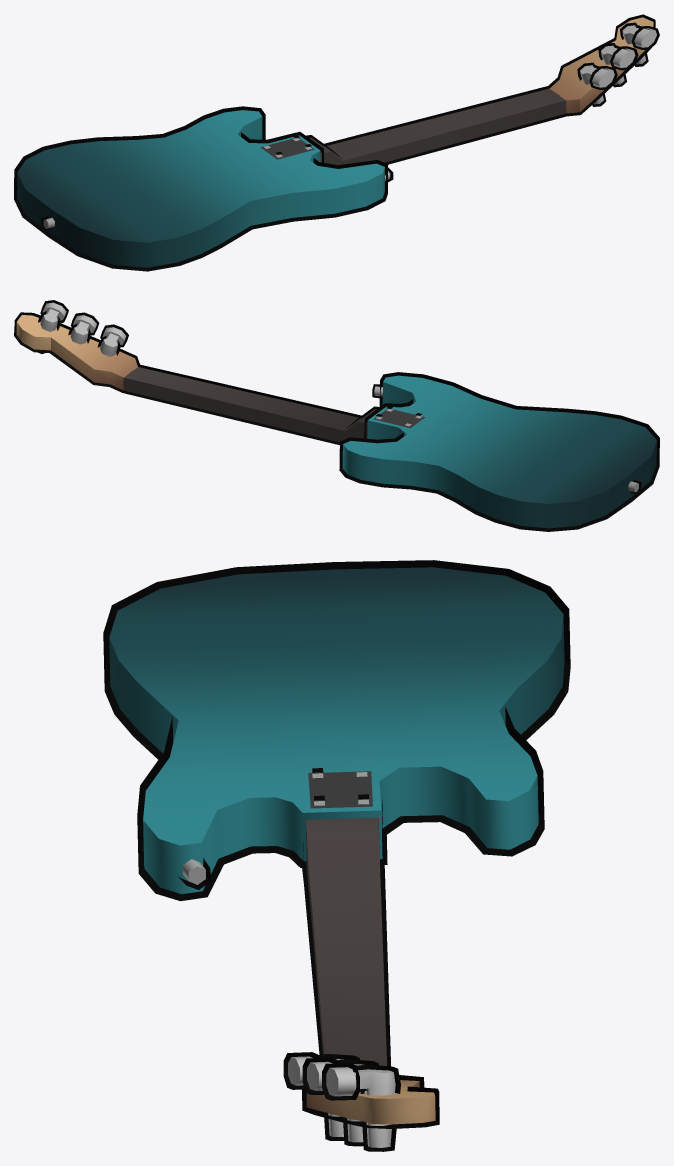
File: gatar.fbx
The picture shows the model from 3 angles, top to bottom: view 1: azimuth 30°, elevation 25°; view 2: azimuth 150°, elevation 25°; view 3: azimuth 270°, elevation 25°; orthographic projection. The views are drawn at different scales.
Visible parts, largest first — view 1: as; view 2: as; view 3: as.
Boxes of the visible parts, bbox=[...] form: as: bbox=[14, 14, 659, 271]; as: bbox=[14, 300, 659, 531]; as: bbox=[103, 560, 570, 1151].
Bounding box in the file's own units: 4.76 × 0.5084 × 1.59.
